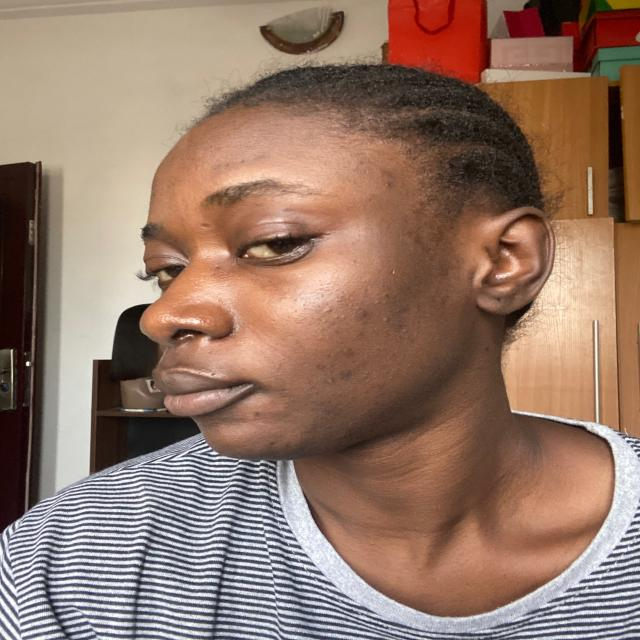Blackheads: (318, 280, 356, 302), (389, 305, 409, 342), (346, 301, 369, 321), (340, 346, 357, 358), (338, 368, 354, 380), (321, 374, 335, 387), (252, 153, 271, 162), (332, 306, 344, 320), (382, 292, 402, 298), (373, 299, 390, 306), (381, 180, 394, 189), (212, 162, 231, 168), (362, 369, 369, 382), (348, 258, 358, 267), (320, 307, 334, 313), (318, 318, 328, 326), (380, 316, 390, 324), (314, 362, 324, 370), (358, 159, 366, 167), (237, 158, 246, 165), (212, 263, 220, 270)
Wrinkles: (244, 325, 300, 365)
